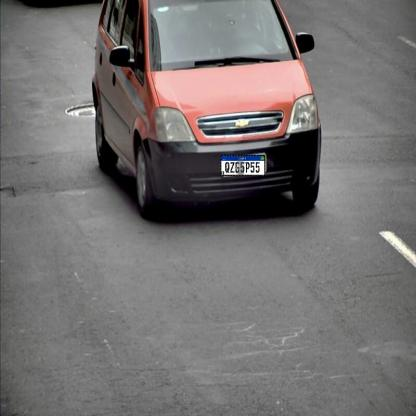PlacaM: (221, 155, 265, 176)
